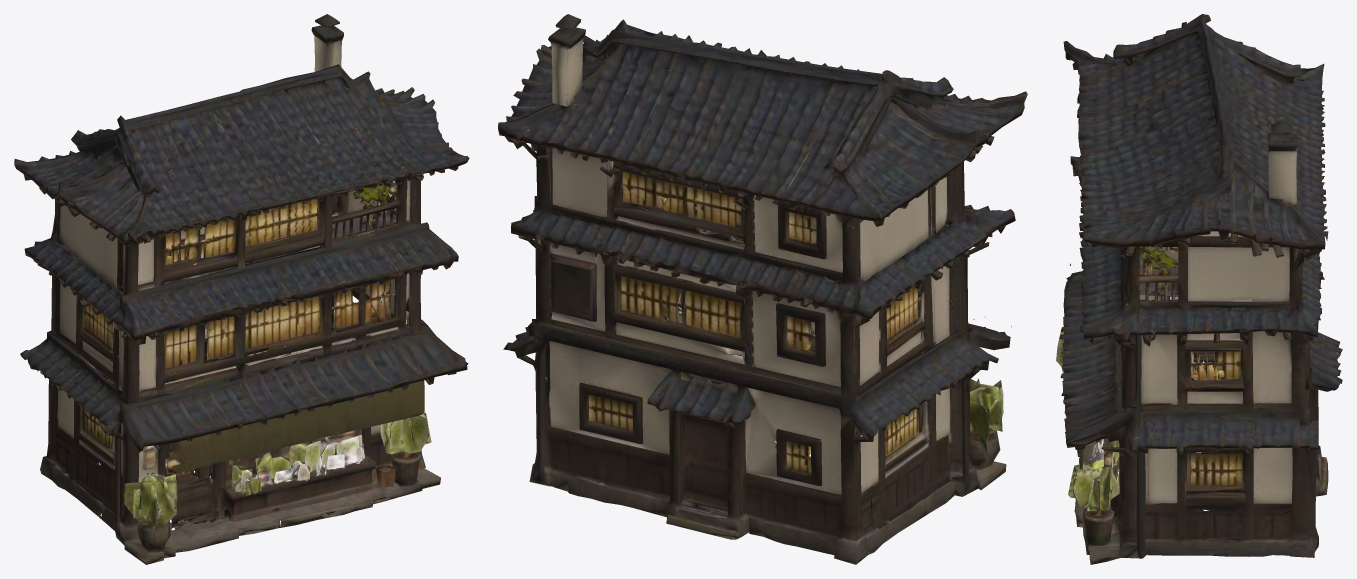
3 views of the same model, side by side, from view 1: azimuth 30°, elevation 25°; view 2: azimuth 150°, elevation 25°; view 3: azimuth 270°, elevation 25° (orthographic). The views are drawn at different scales.
Visible parts, largest first — view 1: compact__shop_3__native_mobile; view 2: compact__shop_3__native_mobile; view 3: compact__shop_3__native_mobile.
Part boxes in pixels (<box>): compact__shop_3__native_mobile: <box>14,14,469,564</box>; compact__shop_3__native_mobile: <box>498,14,1027,564</box>; compact__shop_3__native_mobile: <box>1056,14,1342,564</box>.
Size of the model in its own units: 0.9625 by 1 by 0.6032.
Materials: 1 (1 with a texture image).
